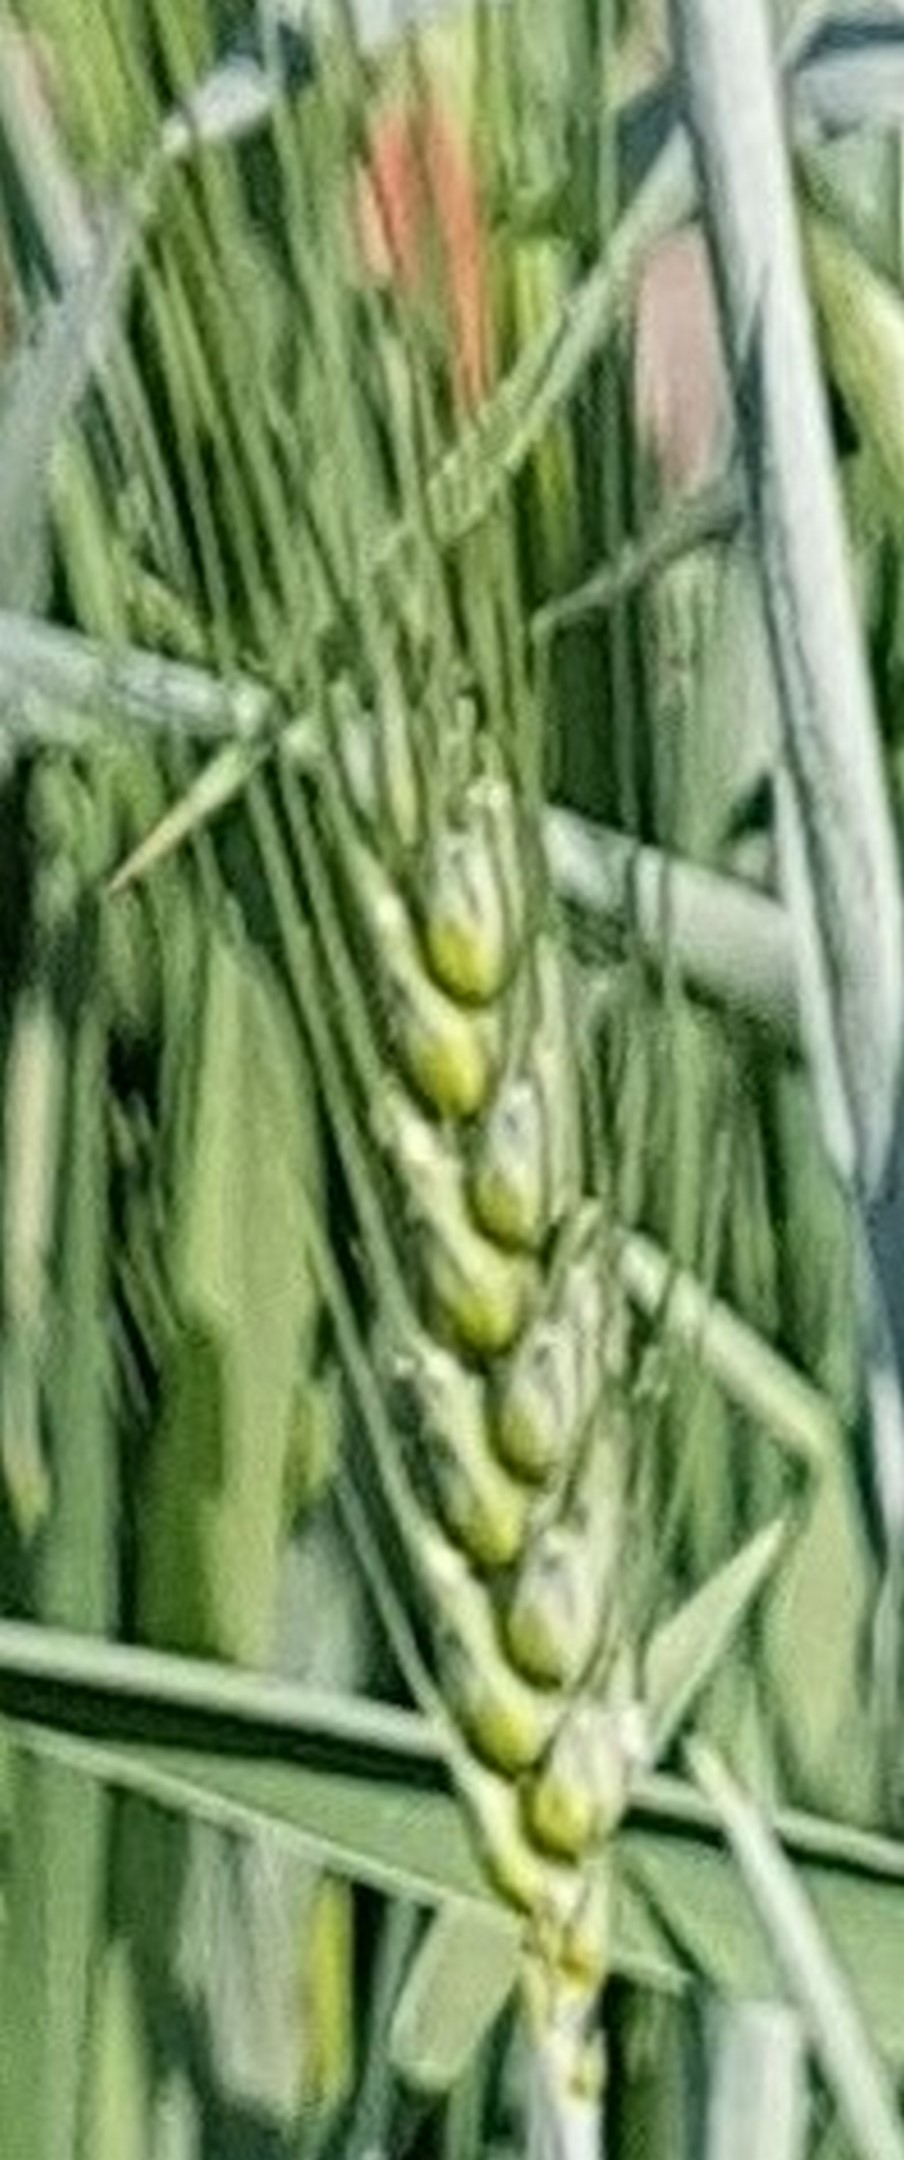Healthy Wheat: (254, 676, 674, 1896)
